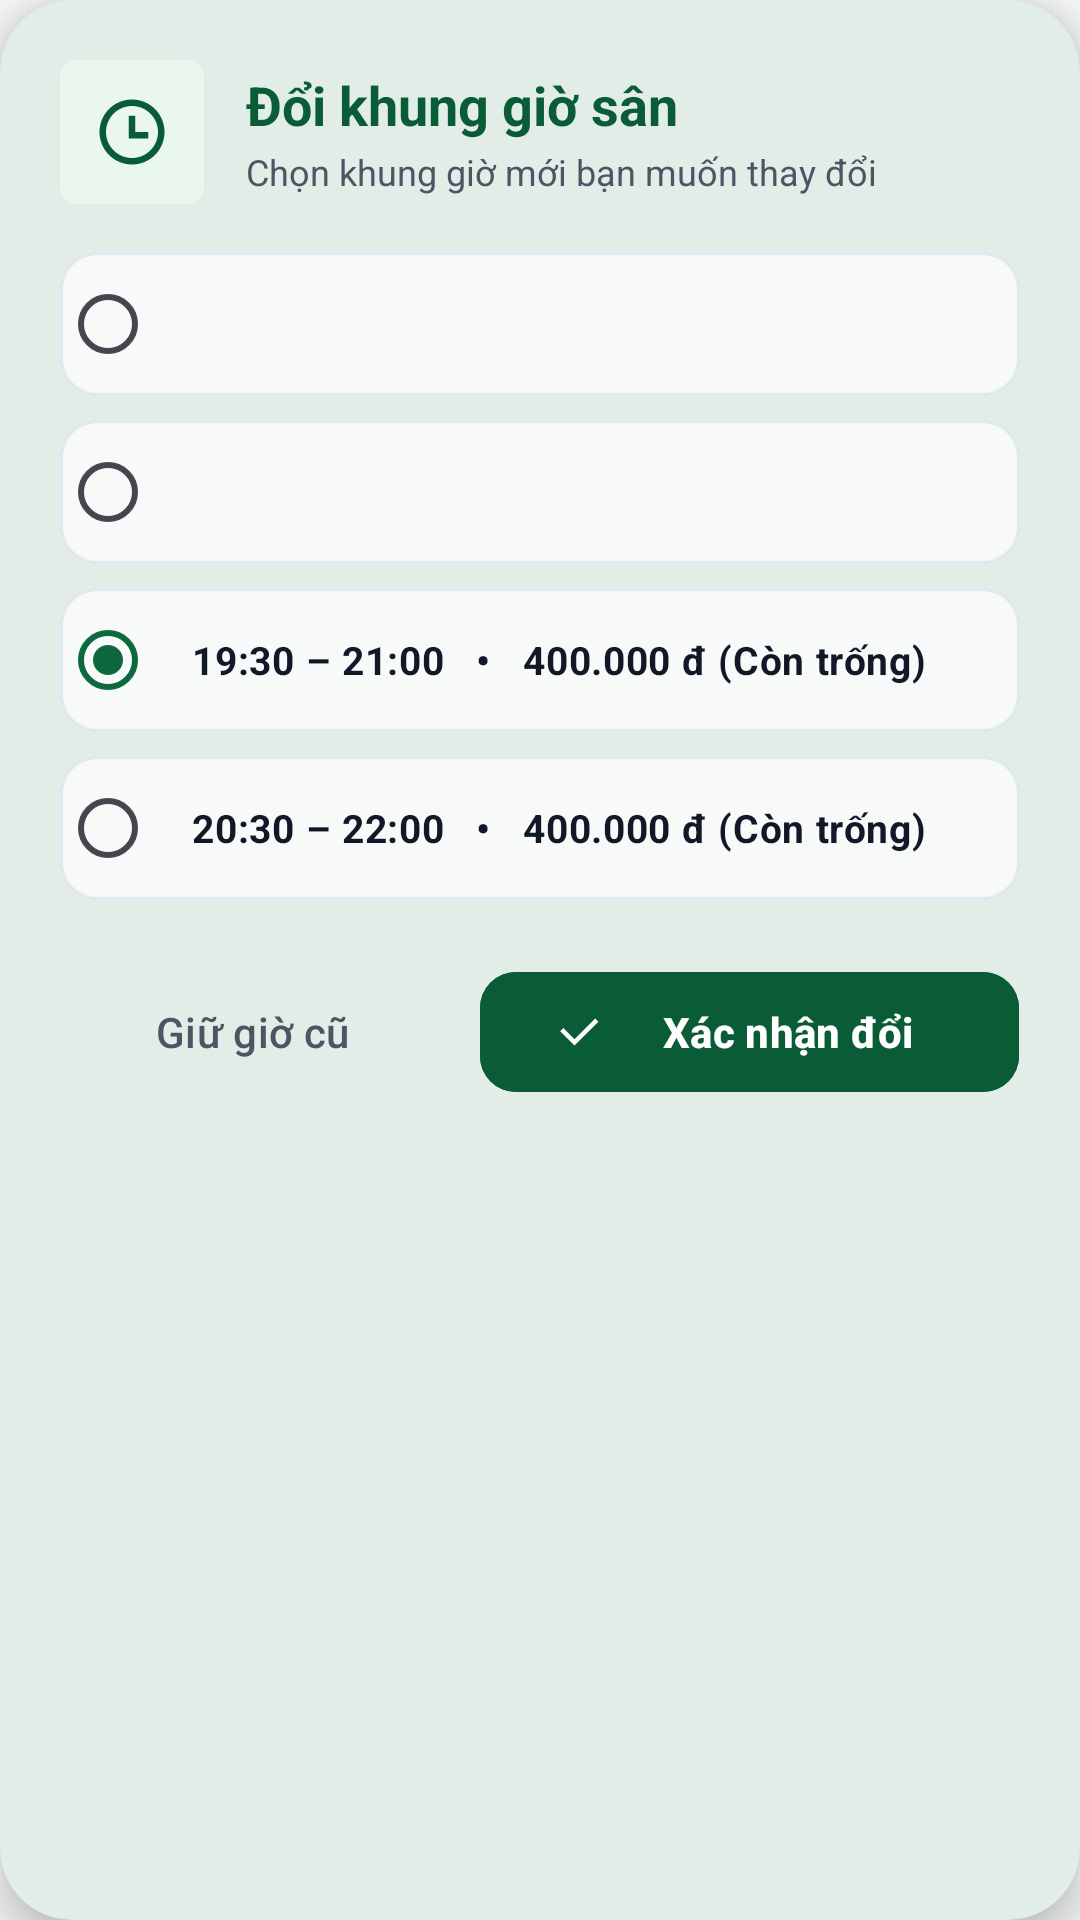

Icons on this 1080×1920 Android screen, each with its box as detection(x1, y1, x2, y2):
ri time: detection(99, 99, 165, 165)
